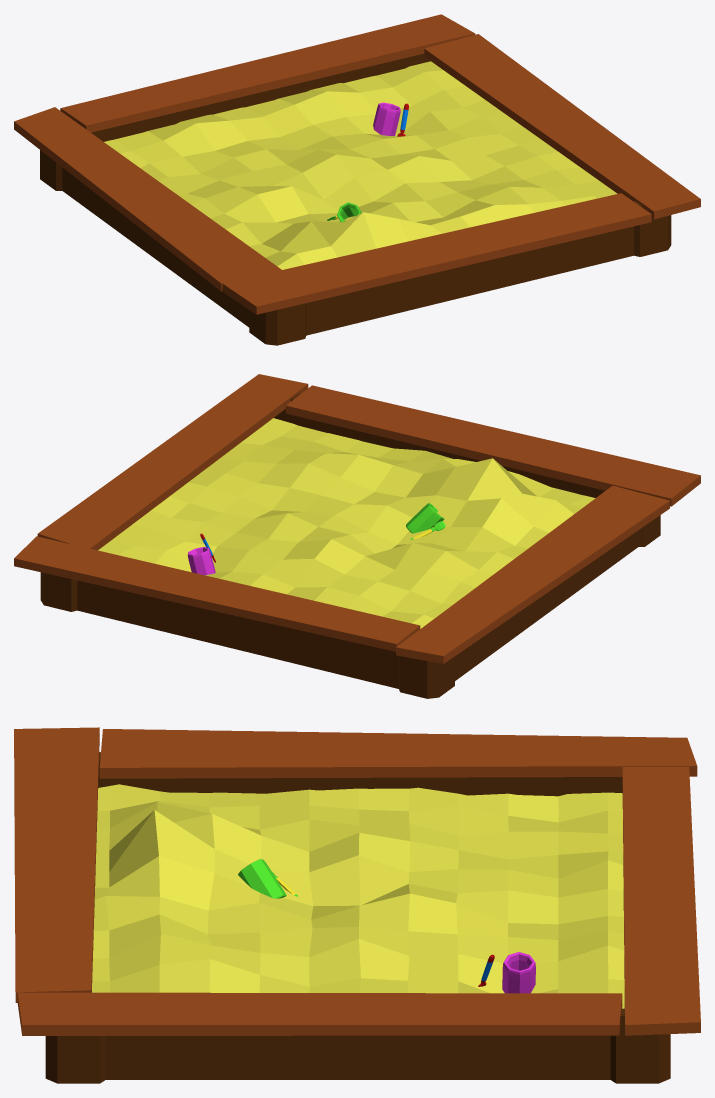
File: Sandbox.fbx
3 renders of one model, top to bottom at view 1: azimuth 30°, elevation 25°; view 2: azimuth 150°, elevation 25°; view 3: azimuth 270°, elevation 25°, orthographic. The views are drawn at different scales.
Visible parts, largest first — view 1: Sand, Sandkasten Rand, Sandkasten, Eimer 2; view 2: Sand, Sandkasten Rand, Sandkasten, Eimer 1, Eimer 2; view 3: Sand, Sandkasten Rand, Sandkasten, Eimer 2, Eimer 1.
Boxes of the visible parts, x1,y1,x2,y2 form: Sand: (104,61,617,269); Sandkasten Rand: (14,14,700,314); Sandkasten: (40,39,671,345); Eimer 2: (373,102,400,135); Sand: (98,418,595,628); Sandkasten Rand: (14,374,700,663); Sandkasten: (40,393,660,698); Eimer 1: (406,503,444,533); Eimer 2: (187,547,215,575); Sand: (92,784,624,1008); Sandkasten Rand: (14,727,700,1035); Sandkasten: (45,752,670,1083); Eimer 2: (502,952,535,993); Eimer 1: (238,859,286,898).
Size of the model in its own units: 292 by 45.03 by 289.
